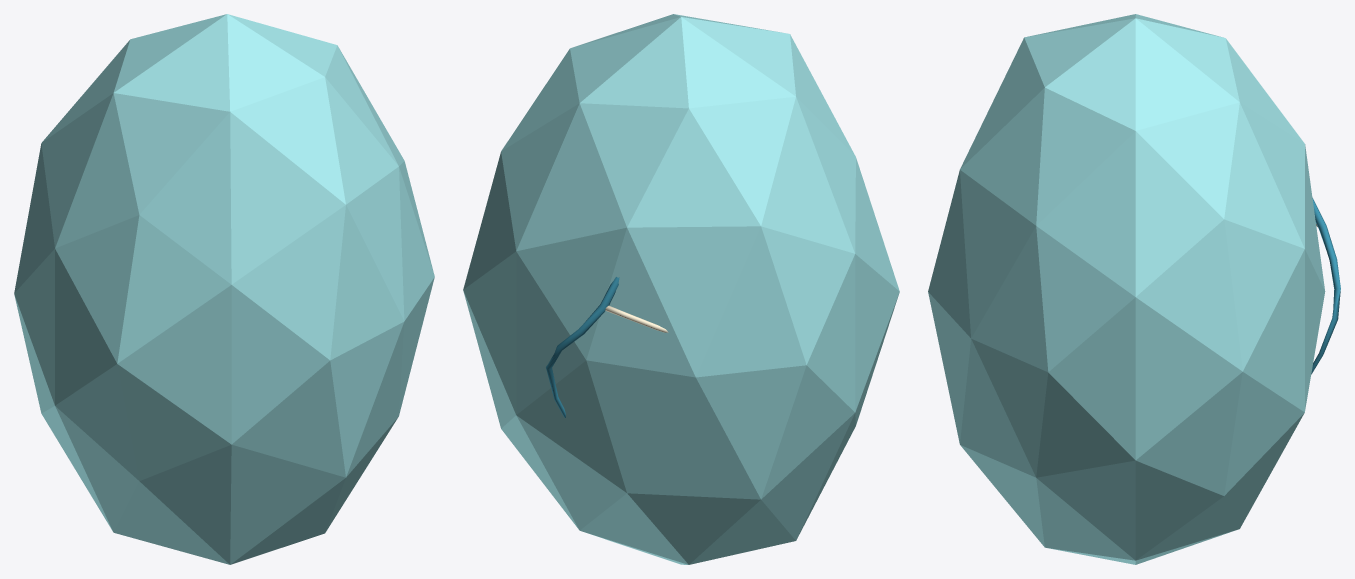
Rendered from Hailstone.glb.
3 renders of one model, left to right at view 1: azimuth 30°, elevation 25°; view 2: azimuth 150°, elevation 25°; view 3: azimuth 270°, elevation 25°, orthographic.
Visible parts, largest first — view 1: Hailstone__Body; view 2: Hailstone__Body; view 3: Hailstone__Body.
Part boxes in pixels (x1=…): Hailstone__Body: x1=14, y1=14, x2=434, y2=564; Hailstone__Body: x1=463, y1=14, x2=899, y2=564; Hailstone__Body: x1=928, y1=14, x2=1340, y2=564.
Bounding box in the file's own units: 0.9142 × 1.35 × 0.9275.
1 material, 1 textured.
